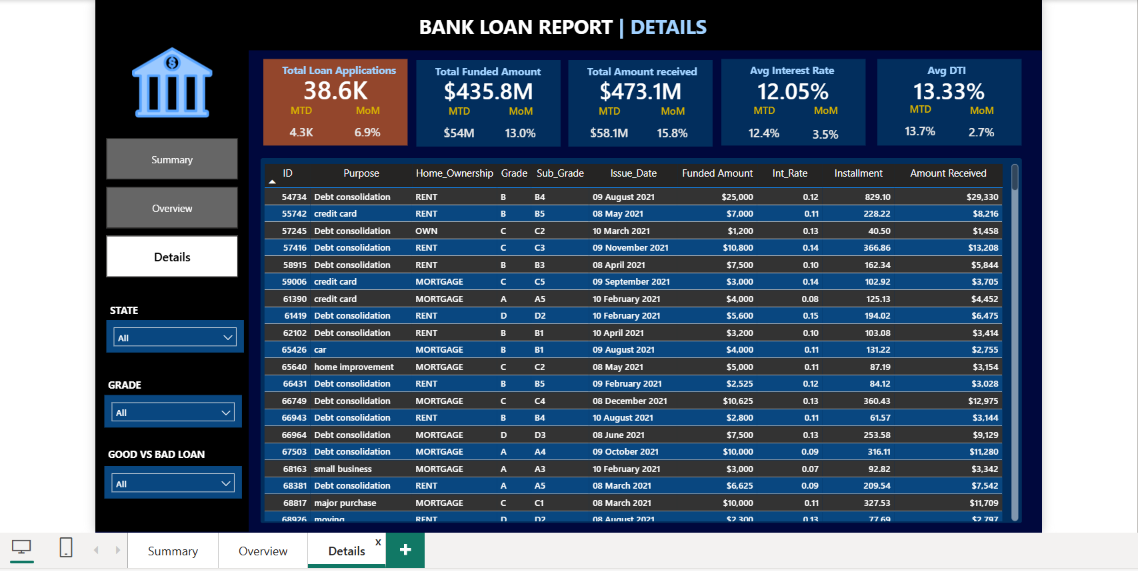

The dashboard page shown, as its layout file describes it:
{"tool":"powerbi","page":{"name":"Details","canvas":[1280,720],"ordinal":2},"visuals":[{"type":"shape","box":[222.6,213.5,1029.7,493.6],"z":0},{"type":"shape","box":[0,0,1279.5,68.1],"z":1000},{"type":"shape","box":[0,68.1,207.4,651.1],"z":2000},{"type":"textbox","box":[318,12.1,628.4,56],"z":3000},{"type":"shape","box":[227.1,80.3,195,117],"z":3000,"group":"g1"},{"type":"shape","box":[846.1,80.3,195,117],"z":3000,"group":"g3"},{"type":"shape","box":[1056.9,80.9,195,117],"z":3000,"group":"g4"},{"type":"shape","box":[433.4,81.8,195,117],"z":3000,"group":"g2"},{"type":"shape","box":[639.8,81.8,195,117],"z":3000,"group":"g5"},{"type":"group","id":"g1","title":"Group 1","box":[227.1,80.3,195.3,116.6],"z":4000},{"type":"cardVisual","fields":{"Data":["bank_loan_data.TOtal Loan Applications"]},"box":[227.1,84.8,195.3,71.2],"z":4000,"group":"g1"},{"type":"cardVisual","fields":{"Data":["bank_loan_data.AVG Interest Rate"]},"box":[846.1,84.8,195.3,71.2],"z":4000,"group":"g3"},{"type":"cardVisual","fields":{"Data":["bank_loan_data.AVG DTI"]},"box":[1056.9,85.4,195.3,71.2],"z":4000,"group":"g4"},{"type":"cardVisual","fields":{"Data":["bank_loan_data.Total Funded Amount"]},"box":[433.4,86.3,195.3,71],"z":4000,"group":"g2"},{"type":"cardVisual","fields":{"Data":["bank_loan_data.Total Amount Received"]},"box":[639.8,86.3,195.3,71.2],"z":4000,"group":"g5"},{"type":"textbox","box":[879.4,79.9,174.1,40.9],"z":5000,"group":"g3"},{"type":"textbox","box":[246.8,80.3,174.1,40.9],"z":5000,"group":"g1"},{"type":"textbox","box":[1063.7,80.3,174.1,40.9],"z":5000,"group":"g4"},{"type":"group","id":"g2","title":"Group 1","box":[433.4,81.8,195.3,117],"z":5000},{"type":"textbox","box":[453.1,81.8,174.1,40.9],"z":5000,"group":"g2"},{"type":"textbox","box":[659.5,81.8,174.1,40.9],"z":5000,"group":"g5"},{"type":"group","id":"g3","title":"Group 1","box":[846.1,79.9,207.4,122.7],"z":6000},{"type":"cardVisual","title":"MTD","fields":{"Data":["bank_loan_data.MTD Avg Int Rate"]},"box":[865.8,139,75.7,60.6],"z":6000,"group":"g3"},{"type":"cardVisual","title":"MTD","fields":{"Data":["bank_loan_data.MTD Avg DTI"]},"box":[1075.8,139,78.7,57.5],"z":6000,"group":"g4"},{"type":"cardVisual","title":"MTD","fields":{"Data":["bank_loan_data.MTD Loan Applications"]},"box":[246.8,139.4,62.1,57.5],"z":6000,"group":"g1"},{"type":"cardVisual","title":"MTD","fields":{"Data":["bank_loan_data.MTD Funded Amount"]},"box":[453.7,141.2,75.7,57.5],"z":6000,"group":"g2"},{"type":"cardVisual","title":"MTD","fields":{"Data":["bank_loan_data.MTD Amount Received"]},"box":[655.6,141.2,78.7,57.5],"z":6000,"group":"g5"},{"type":"group","id":"g4","title":"Group 1","box":[1056.9,80.3,195.3,116.6],"z":7000},{"type":"cardVisual","title":"MoM","fields":{"Data":["bank_loan_data.MoM Avg Int Rate"]},"box":[943,139,87.8,63.6],"z":7000,"group":"g3"},{"type":"cardVisual","title":"MoM","fields":{"Data":["bank_loan_data.MOM Loan Applications"]},"box":[324,139.4,87.8,57.5],"z":7000,"group":"g1"},{"type":"cardVisual","title":"MoM","fields":{"Data":["bank_loan_data.MoM Avg DTI"]},"box":[1153.8,139.9,87.8,57.5],"z":7000,"group":"g4"},{"type":"cardVisual","title":"MoM","fields":{"Data":["bank_loan_data.MoM Total Funded Amount"]},"box":[530.3,140.9,87.8,57.5],"z":7000,"group":"g2"},{"type":"cardVisual","title":"MoM","fields":{"Data":["bank_loan_data.MoM Total Amount Received"]},"box":[736.7,140.9,87.8,57.5],"z":7000,"group":"g5"},{"type":"group","id":"g5","title":"Group 1","box":[639.8,81.8,195.3,117],"z":8000},{"type":"slicer","fields":{"Values":["bank_loan_data.address_state"]},"box":[15.1,433.1,186.2,43.9],"z":9000},{"type":"slicer","fields":{"Values":["bank_loan_data.Good vs Bad Loan"]},"box":[11.8,629.5,186.2,43.9],"z":10000},{"type":"slicer","fields":{"Values":["bank_loan_data.grade"]},"box":[11.8,533.6,186.2,43.9],"z":11000},{"type":"textbox","box":[11.8,505.2,69.7,28.8],"z":12000},{"type":"textbox","box":[15.1,404.3,69.7,28.8],"z":13000},{"type":"textbox","box":[11.6,598.6,174.1,30.3],"z":14000},{"type":"tableEx","fields":{"Values":["bank_loan_data.id","bank_loan_data.purpose","bank_loan_data.home_ownership","bank_loan_data.grade","bank_loan_data.sub_grade","bank_loan_data.issue_date","bank_loan_data.Total Funded Amount","Sum(bank_loan_data.int_rate)","Sum(bank_loan_data.installment)","bank_loan_data.Total Amount Received"]},"box":[222.6,216.5,1029.7,493],"z":15000},{"type":"image","box":[40.9,56,126.7,112.1],"z":16000},{"type":"pageNavigator","box":[15.1,186.2,178.7,189.3],"z":17000}]}

Visuals, with their boxes on the page's 1280x720 design canvas (x1, y1, x2, y2). These are canvas units, not pixel positions in the 1138x571 screenshot, which may show the page scaled, cropped or inside an application window:
shape: {"left": 223, "top": 214, "right": 1252, "bottom": 707}
shape: {"left": 0, "top": 0, "right": 1280, "bottom": 68}
shape: {"left": 0, "top": 68, "right": 207, "bottom": 719}
textbox: {"left": 318, "top": 12, "right": 946, "bottom": 68}
shape: {"left": 227, "top": 80, "right": 422, "bottom": 197}
shape: {"left": 846, "top": 80, "right": 1041, "bottom": 197}
shape: {"left": 1057, "top": 81, "right": 1252, "bottom": 198}
shape: {"left": 433, "top": 82, "right": 628, "bottom": 199}
shape: {"left": 640, "top": 82, "right": 835, "bottom": 199}
"Group 1" group: {"left": 227, "top": 80, "right": 422, "bottom": 197}
cardVisual - bank_loan_data.TOtal Loan Applications: {"left": 227, "top": 85, "right": 422, "bottom": 156}
cardVisual - bank_loan_data.AVG Interest Rate: {"left": 846, "top": 85, "right": 1041, "bottom": 156}
cardVisual - bank_loan_data.AVG DTI: {"left": 1057, "top": 85, "right": 1252, "bottom": 157}
cardVisual - bank_loan_data.Total Funded Amount: {"left": 433, "top": 86, "right": 629, "bottom": 157}
cardVisual - bank_loan_data.Total Amount Received: {"left": 640, "top": 86, "right": 835, "bottom": 158}
textbox: {"left": 879, "top": 80, "right": 1054, "bottom": 121}
textbox: {"left": 247, "top": 80, "right": 421, "bottom": 121}
textbox: {"left": 1064, "top": 80, "right": 1238, "bottom": 121}
"Group 1" group: {"left": 433, "top": 82, "right": 629, "bottom": 199}
textbox: {"left": 453, "top": 82, "right": 627, "bottom": 123}
textbox: {"left": 660, "top": 82, "right": 834, "bottom": 123}
"Group 1" group: {"left": 846, "top": 80, "right": 1054, "bottom": 203}
"MTD" cardVisual: {"left": 866, "top": 139, "right": 942, "bottom": 200}
"MTD" cardVisual: {"left": 1076, "top": 139, "right": 1154, "bottom": 196}
"MTD" cardVisual: {"left": 247, "top": 139, "right": 309, "bottom": 197}
"MTD" cardVisual: {"left": 454, "top": 141, "right": 529, "bottom": 199}
"MTD" cardVisual: {"left": 656, "top": 141, "right": 734, "bottom": 199}
"Group 1" group: {"left": 1057, "top": 80, "right": 1252, "bottom": 197}
"MoM" cardVisual: {"left": 943, "top": 139, "right": 1031, "bottom": 203}
"MoM" cardVisual: {"left": 324, "top": 139, "right": 412, "bottom": 197}
"MoM" cardVisual: {"left": 1154, "top": 140, "right": 1242, "bottom": 197}
"MoM" cardVisual: {"left": 530, "top": 141, "right": 618, "bottom": 198}
"MoM" cardVisual: {"left": 737, "top": 141, "right": 824, "bottom": 198}
"Group 1" group: {"left": 640, "top": 82, "right": 835, "bottom": 199}
slicer - bank_loan_data.address_state: {"left": 15, "top": 433, "right": 201, "bottom": 477}
slicer - bank_loan_data.Good vs Bad Loan: {"left": 12, "top": 630, "right": 198, "bottom": 673}
slicer - bank_loan_data.grade: {"left": 12, "top": 534, "right": 198, "bottom": 578}
textbox: {"left": 12, "top": 505, "right": 82, "bottom": 534}
textbox: {"left": 15, "top": 404, "right": 85, "bottom": 433}
textbox: {"left": 12, "top": 599, "right": 186, "bottom": 629}
tableEx - bank_loan_data.id x bank_loan_data.purpose: {"left": 223, "top": 216, "right": 1252, "bottom": 710}
image: {"left": 41, "top": 56, "right": 168, "bottom": 168}
pageNavigator: {"left": 15, "top": 186, "right": 194, "bottom": 376}
